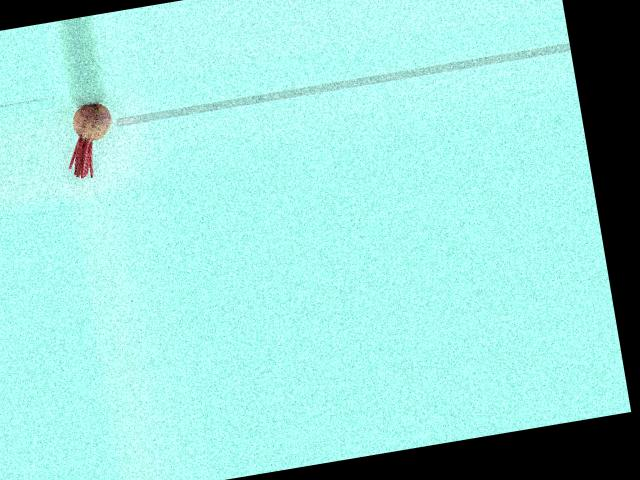beet: (59, 100, 121, 180)
